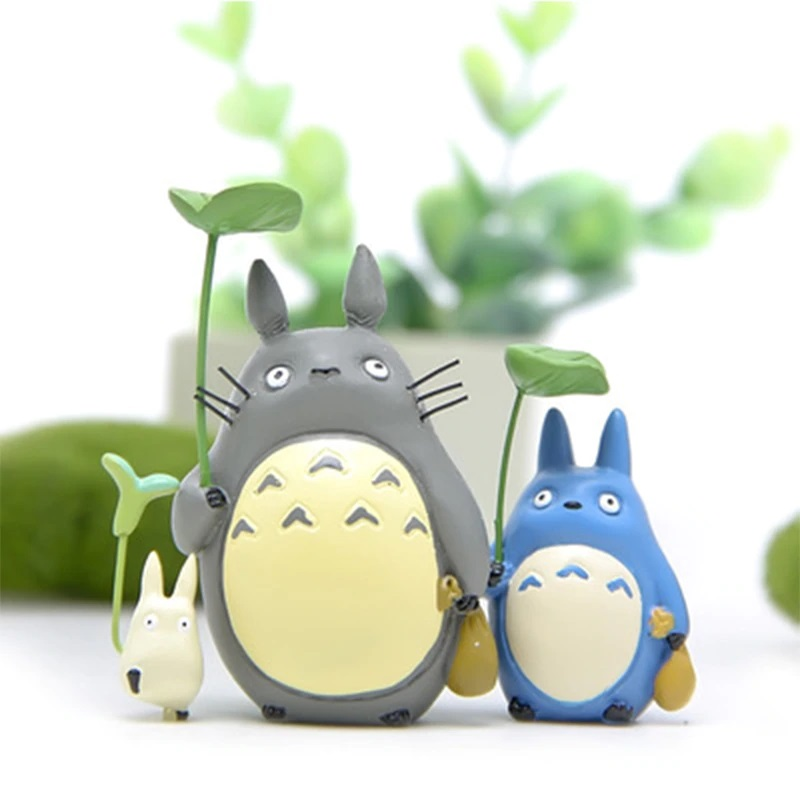Totoro: (165, 240, 496, 737)
